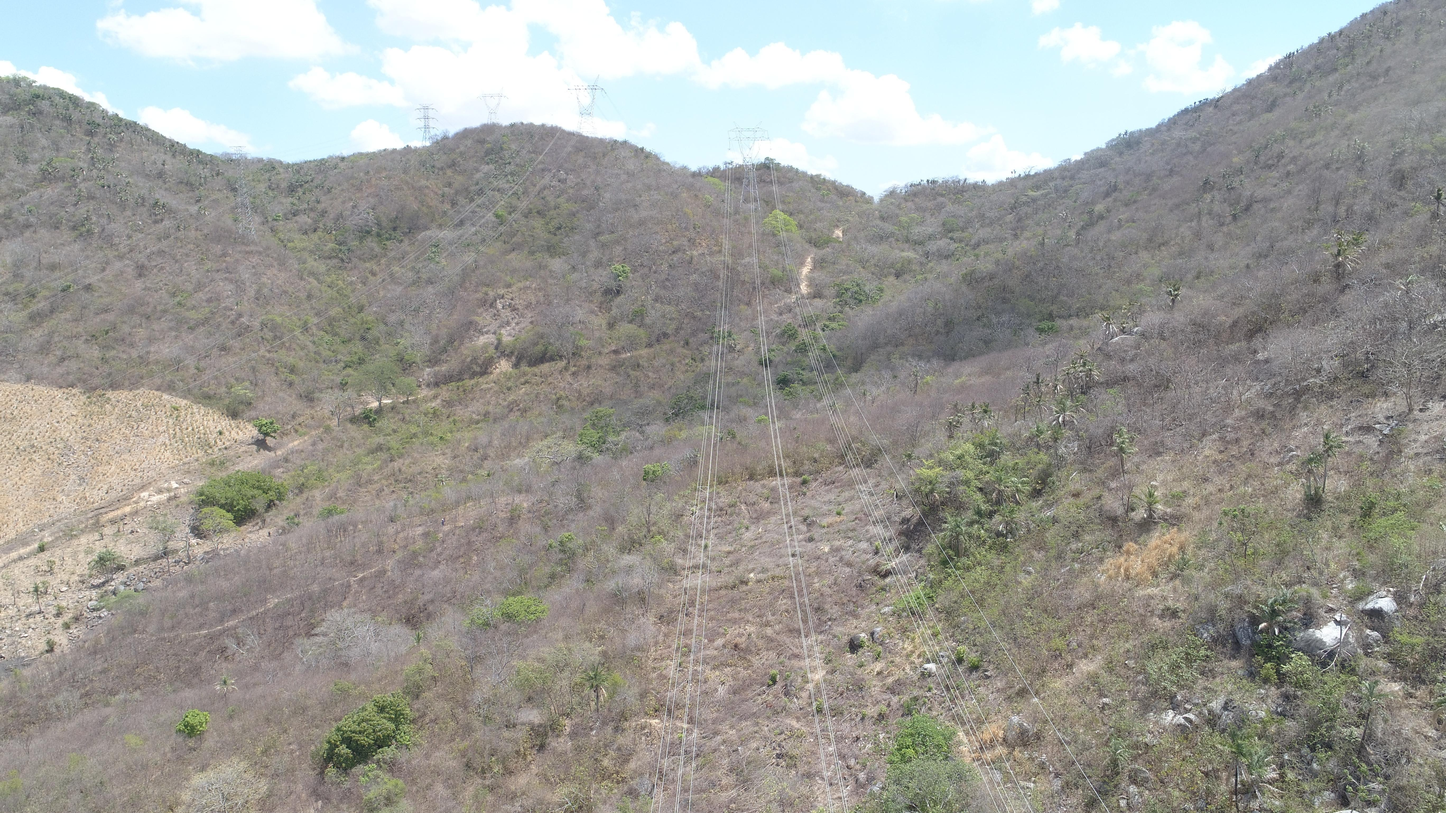power_tower: (217, 139, 267, 244), (723, 120, 774, 219), (559, 73, 610, 144), (470, 85, 514, 134), (409, 97, 443, 150)
